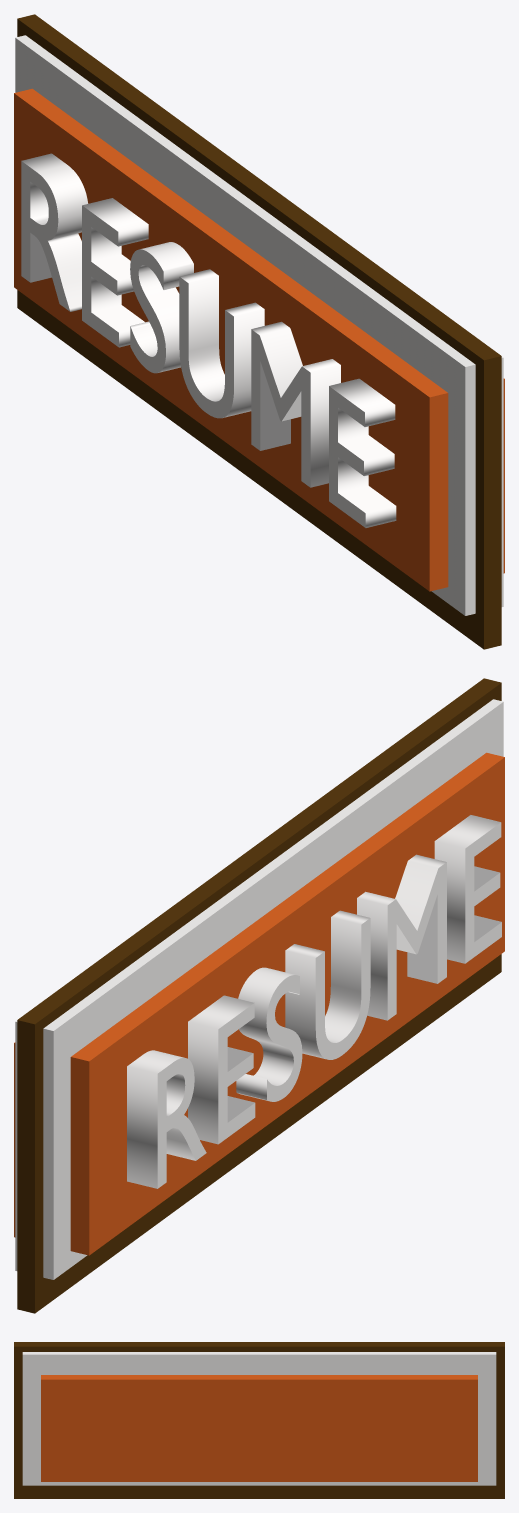
File: resuime_button.fbx
3 views of the same model, one above another, from view 1: azimuth 30°, elevation 25°; view 2: azimuth 150°, elevation 25°; view 3: azimuth 270°, elevation 25° (orthographic). The views are drawn at different scales.
Parts seen in each view (by area): view 1: resuime_button; view 2: resuime_button; view 3: resuime_button.
Part boxes in pixels (x1,y1,x2,y2): resuime_button: (14, 14, 504, 649); resuime_button: (14, 678, 504, 1313); resuime_button: (14, 1342, 504, 1498).
Size of the model in its own units: 65.54 by 171 by 501.
